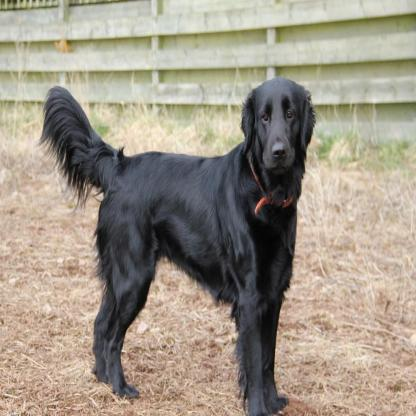dog: (39, 77, 314, 416)
